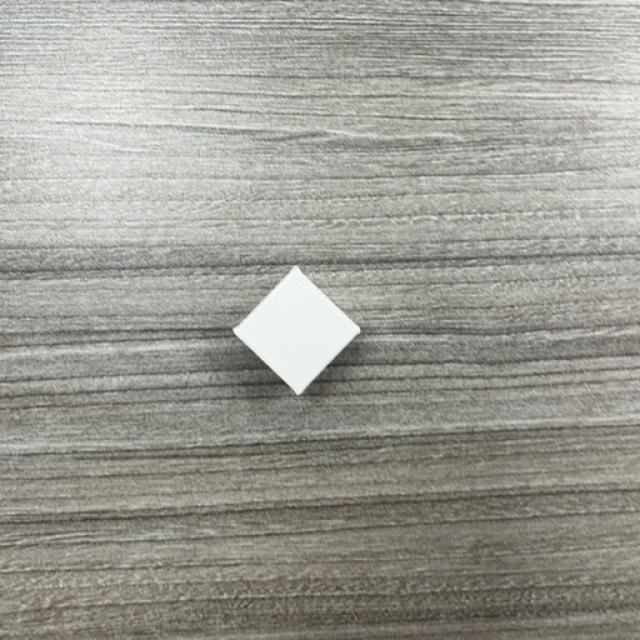Blanco: (232, 269, 361, 398)
